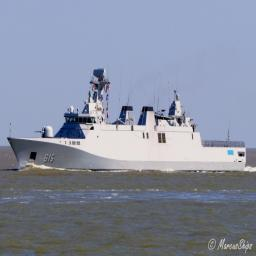Fragata: (7, 69, 250, 173)
